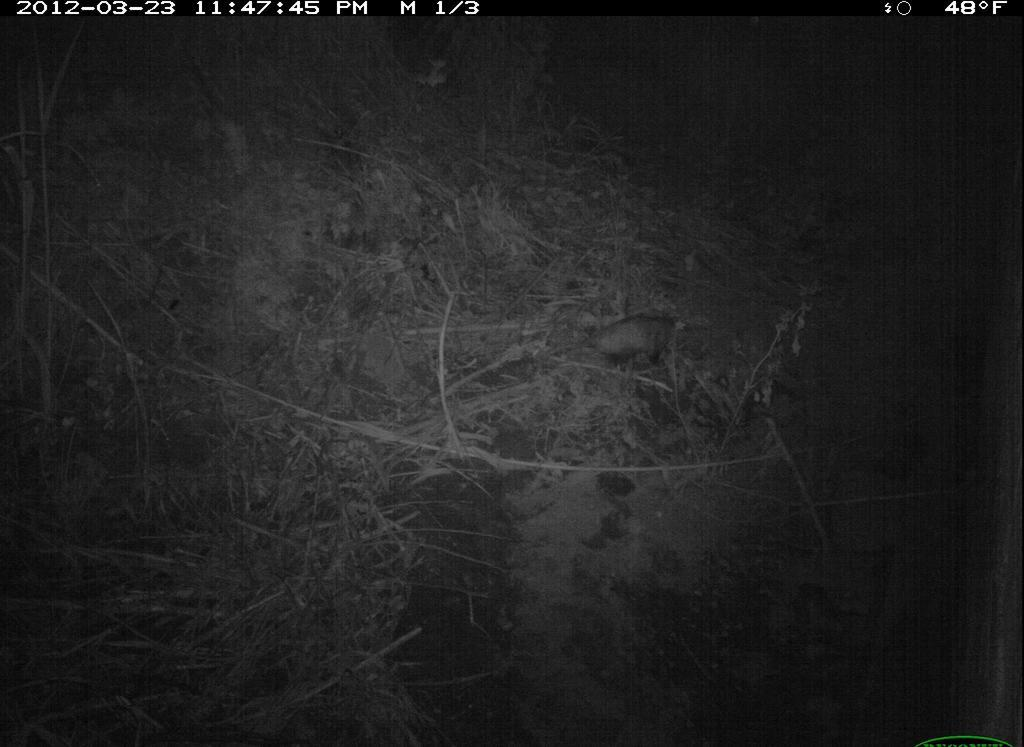opossum: (565, 300, 698, 393)
